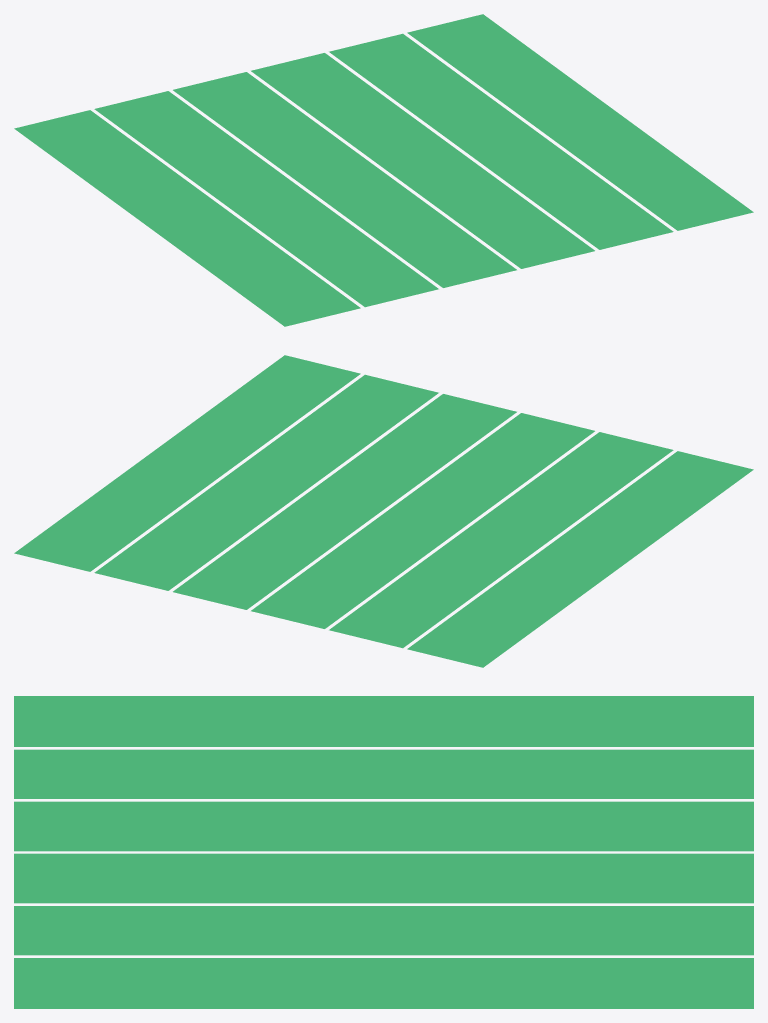
File: wall_011.glb
3 views of the same model, one above another, from view 1: azimuth 30°, elevation 25°; view 2: azimuth 150°, elevation 25°; view 3: azimuth 270°, elevation 25° (orthographic). The views are drawn at different scales.
Visible parts, largest first — view 1: wall_011; view 2: wall_011; view 3: wall_011.
Boxes of the visible parts, bbox=[...] form: wall_011: bbox=[14, 14, 753, 326]; wall_011: bbox=[14, 355, 753, 667]; wall_011: bbox=[14, 696, 753, 1008].
Bounding box in the file's own units: 4 × 6.54e-07 × 4.
1 material, 1 textured.
